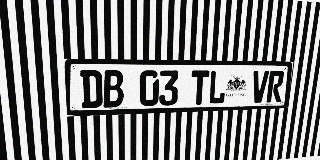0: (139, 70, 159, 106)
3: (159, 70, 179, 106)
B: (103, 70, 124, 108)
D: (80, 70, 103, 108)
L: (208, 70, 227, 104)
R: (266, 71, 285, 102)
T: (190, 70, 209, 105)
V: (250, 71, 269, 103)
